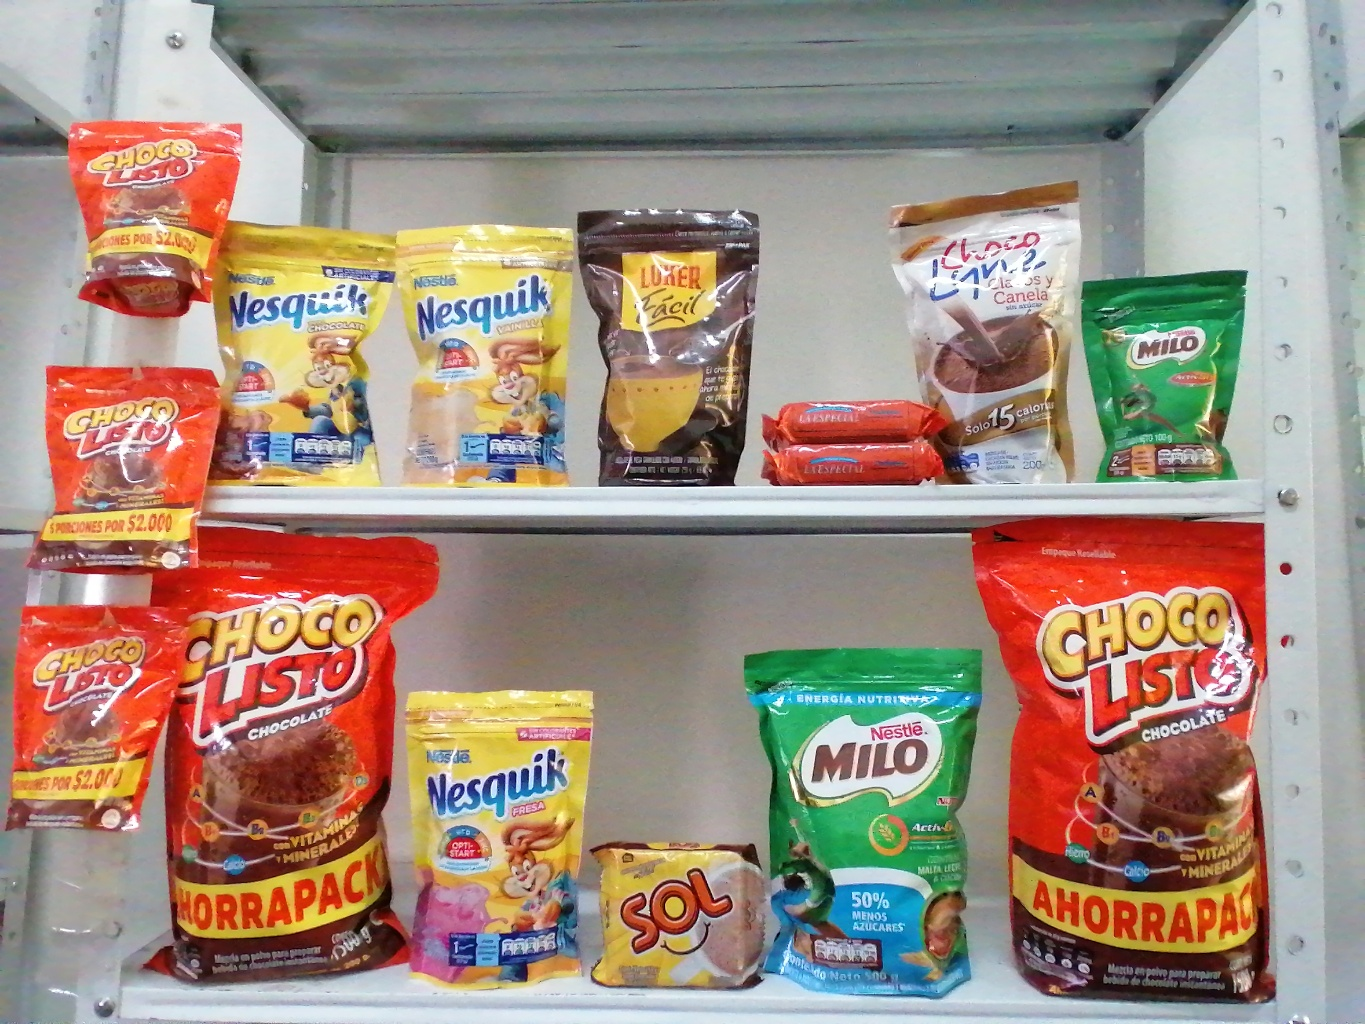COL0170103DYP1,500: (945, 508, 1325, 1015)
COL0170203DYP10000: (1075, 254, 1261, 483)
COL0170205DYP50000: (723, 632, 997, 1010)
COL0170303DYP20000: (183, 194, 410, 501)
COL0170305DYP20000: (381, 666, 605, 1002)
COL0170306DYP20000: (375, 210, 594, 497)
